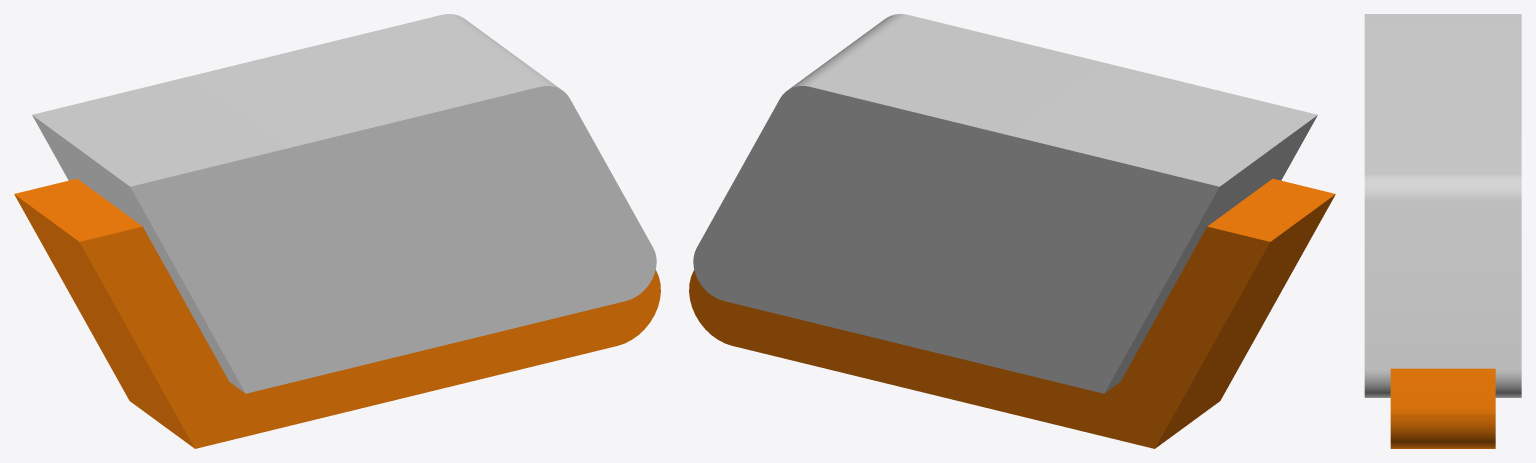
Rendered from Information Counter 3.fbx.
The picture shows the model from 3 angles, left to right: view 1: azimuth 30°, elevation 25°; view 2: azimuth 150°, elevation 25°; view 3: azimuth 270°, elevation 25°; orthographic projection. The views are drawn at different scales.
Parts seen in each view (by area): view 1: Information_Counter, Logo; view 2: Information_Counter; view 3: Information_Counter.
Part boxes in pixels (x1,y1,x2,y2): Information_Counter: (14,14,660,448); Logo: (250,166,554,318); Information_Counter: (689,14,1335,448); Information_Counter: (1364,14,1521,448).
Size of the model in its own units: 191 by 92.47 by 56.15.
